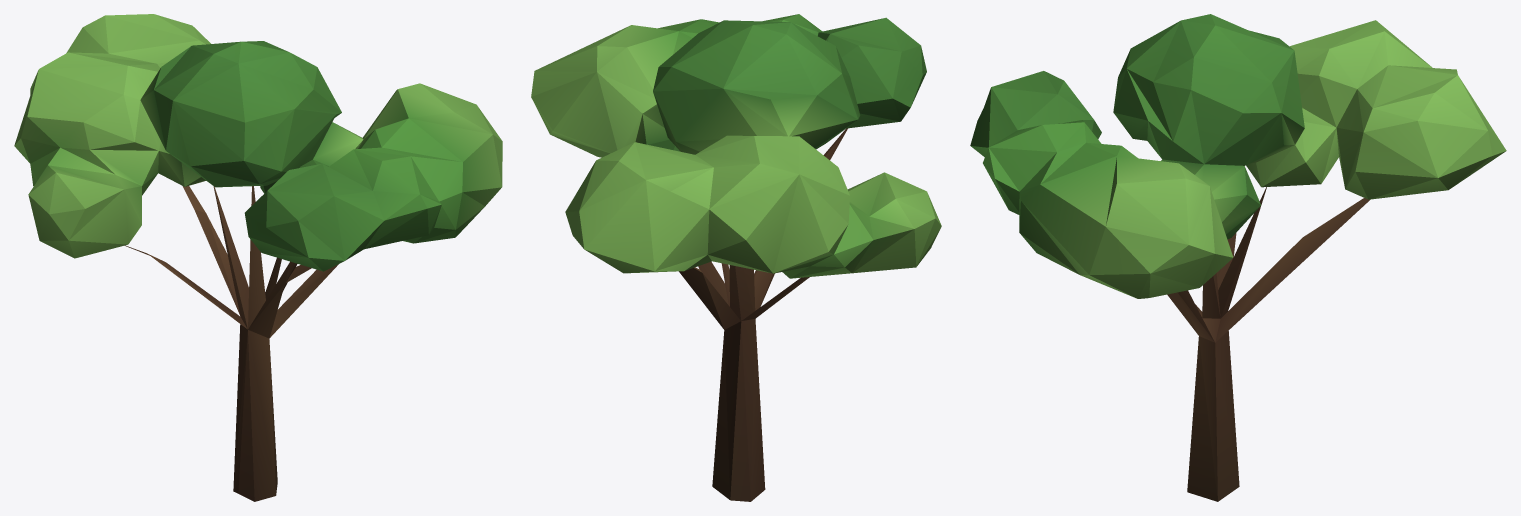
File: broadleaf_mature_far.glb
3 renders of one model, left to right at view 1: azimuth 30°, elevation 25°; view 2: azimuth 150°, elevation 25°; view 3: azimuth 270°, elevation 25°, orthographic. The views are drawn at different scales.
Visible parts, largest first — view 1: broadleaf_mature_LOD3; view 2: broadleaf_mature_LOD3; view 3: broadleaf_mature_LOD3.
Part boxes in pixels (left/top/right/bottom): broadleaf_mature_LOD3: left=14, top=14, right=502, bottom=501; broadleaf_mature_LOD3: left=531, top=14, right=941, bottom=501; broadleaf_mature_LOD3: left=970, top=14, right=1506, bottom=501.
Size of the model in its own units: 4.45 by 4.65 by 4.92.
